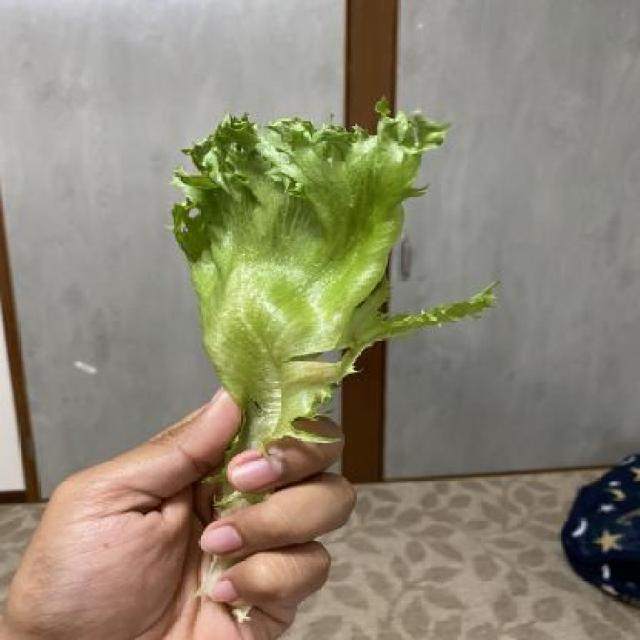lettuce: (163, 91, 502, 625)
